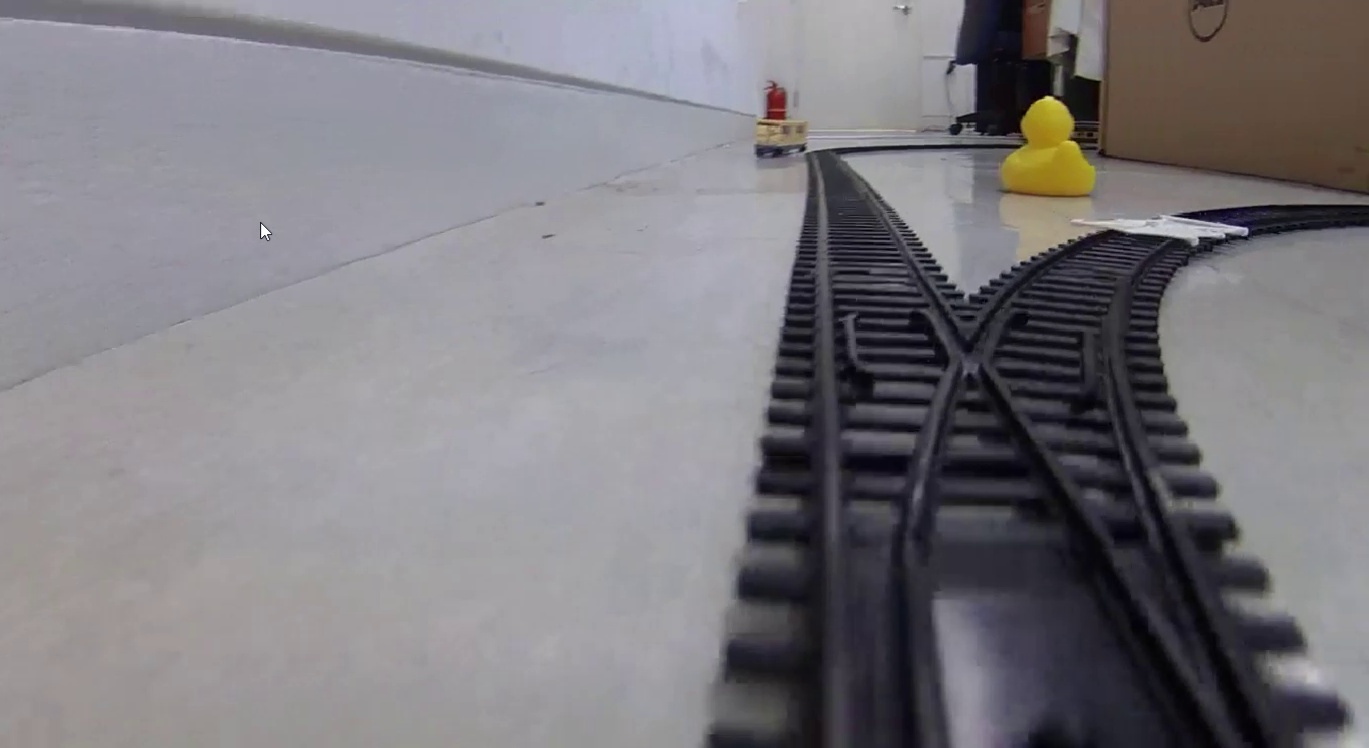web: (1074, 208, 1249, 243)
